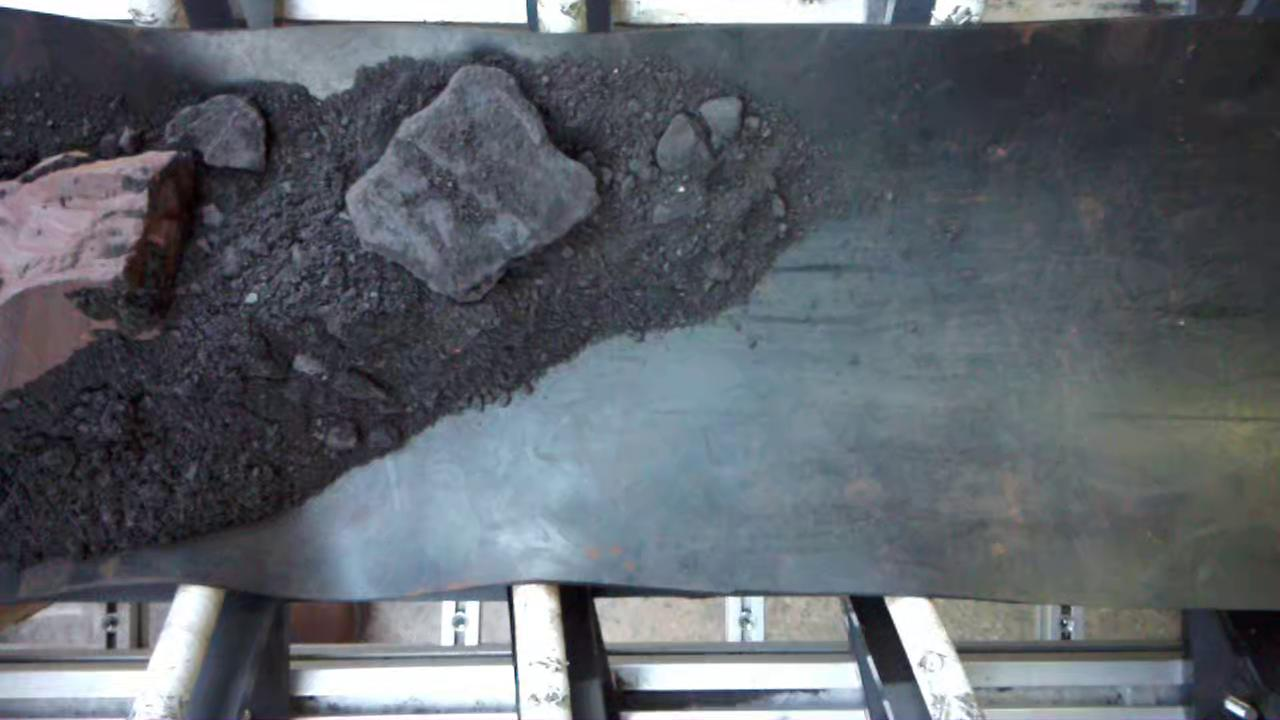conveyor: (1, 36, 1280, 582)
